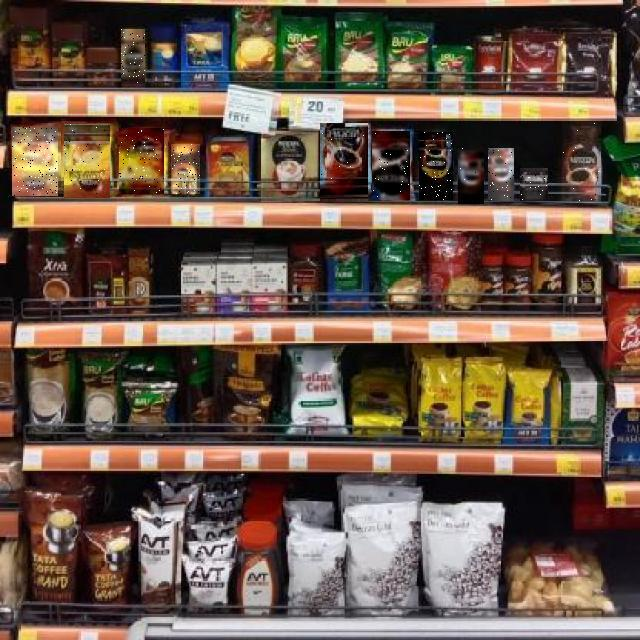Coffee: (321, 124, 369, 202), (65, 124, 111, 198), (562, 120, 601, 202), (13, 127, 59, 196), (119, 129, 164, 195), (373, 131, 411, 200), (419, 132, 453, 200), (458, 148, 484, 204), (171, 144, 200, 194), (489, 148, 515, 201), (121, 30, 145, 86), (520, 168, 548, 201)
